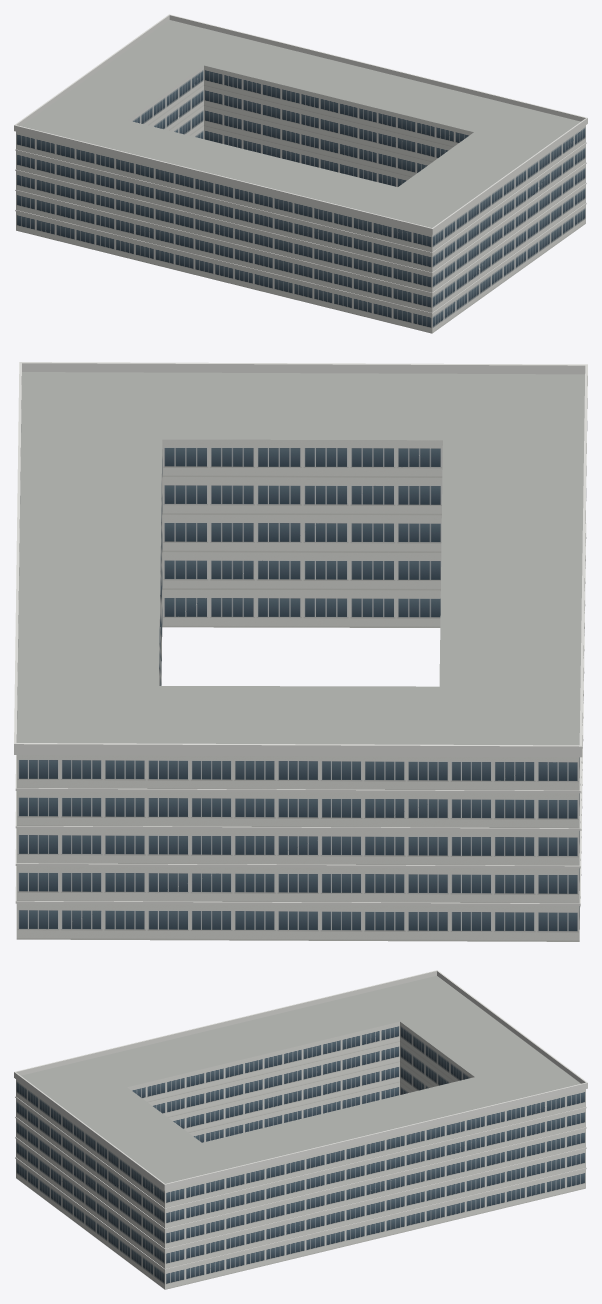
File: yuejianglou.glb
3 renders of one model, top to bottom at view 1: azimuth 30°, elevation 25°; view 2: azimuth 150°, elevation 25°; view 3: azimuth 270°, elevation 25°, orthographic. The views are drawn at different scales.
Parts seen in each view (by area): view 1: 阅江楼; view 2: 阅江楼; view 3: 阅江楼.
Part boxes in pixels (x1,y1,x2,y2): 阅江楼: [14, 14, 587, 333]; 阅江楼: [14, 362, 587, 941]; 阅江楼: [14, 970, 587, 1289].
Bounding box in the file's own units: 87.32 × 20.1 × 98.68.
Materials: 3 (1 with a texture image).
